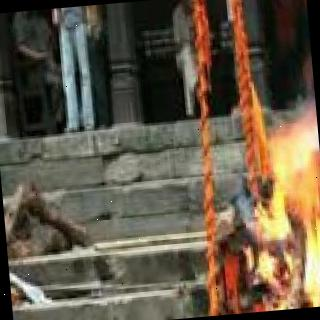fire: (243, 122, 320, 312)
